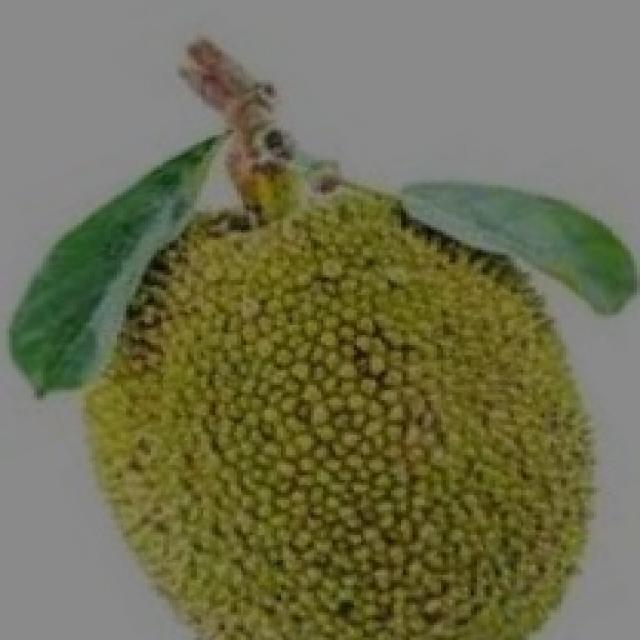Fruit: (28, 173, 446, 635), (298, 232, 634, 640)
